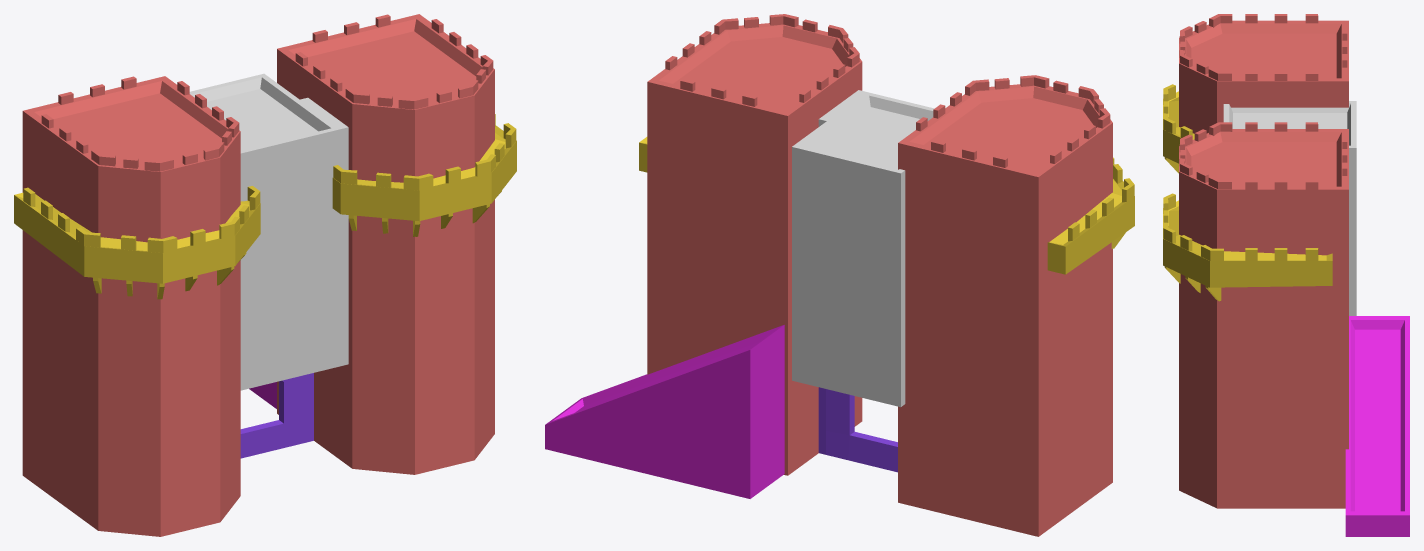
The model's file is TorresArregladas.fbx.
3 views of the same model, side by side, from view 1: azimuth 30°, elevation 25°; view 2: azimuth 150°, elevation 25°; view 3: azimuth 270°, elevation 25° (orthographic). The views are drawn at different scales.
Parts seen in each view (by area): view 1: Cube.005, Cube.002, Cube.003, Plane.005, Cube.001; view 2: Cube.005, Cube.002, Cube.003, Cube.004, Cube.001, Plane.005; view 3: Cube.002, Cube.005, Cube.004, Plane.005, Cube.003, Cube.042.
Part boxes in pixels (left/top/right/bottom): Cube.005: left=22, top=76, right=240, bottom=536; Cube.002: left=277, top=14, right=494, bottom=474; Cube.003: left=189, top=73, right=348, bottom=390; Plane.005: left=14, top=125, right=516, bottom=283; Cube.001: left=240, top=373, right=313, bottom=458; Cube.005: left=898, top=84, right=1112, bottom=536; Cube.002: left=647, top=23, right=862, bottom=475; Cube.003: left=792, top=90, right=934, bottom=407; Cube.004: left=545, top=325, right=784, bottom=498; Cube.001: left=818, top=387, right=897, bottom=472; Plane.005: left=639, top=137, right=1134, bottom=274; Cube.002: left=1179, top=129, right=1348, bottom=508; Cube.005: left=1179, top=20, right=1348, bottom=133; Cube.004: left=1345, top=316, right=1409, bottom=536; Plane.005: left=1163, top=91, right=1332, bottom=287; Cube.003: left=1223, top=101, right=1356, bottom=315; Cube.042: left=1201, top=245, right=1223, bottom=260.
Bounding box in the file's own units: 3116 × 2299 × 1577.
